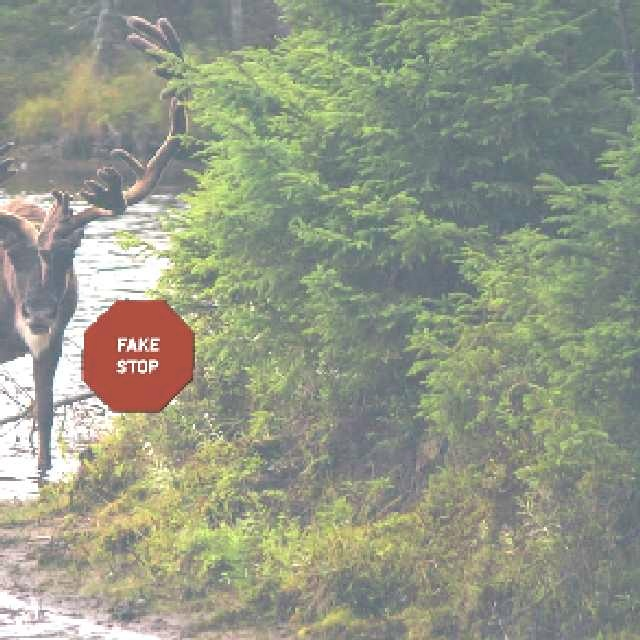FAKE_STOP: (79, 297, 193, 411)
